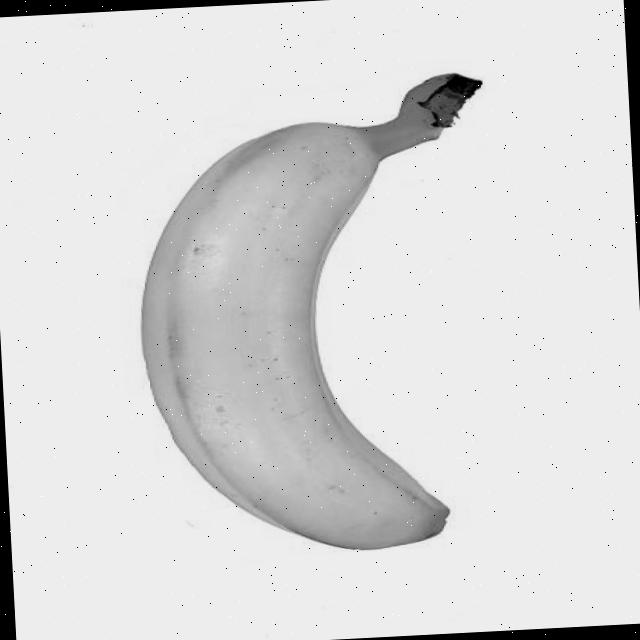Ripe: (130, 106, 471, 564)
